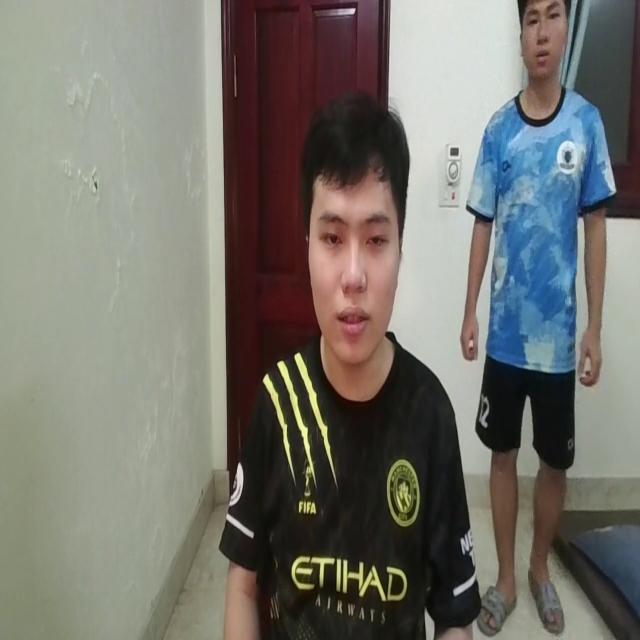extra_person: (456, 3, 612, 635)
student: (211, 95, 472, 640)
